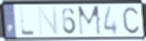4: (102, 4, 120, 37)
6: (61, 7, 78, 35)
C: (122, 6, 141, 35)
L: (19, 6, 38, 37)
M: (76, 4, 103, 37)
N: (36, 5, 60, 37)
